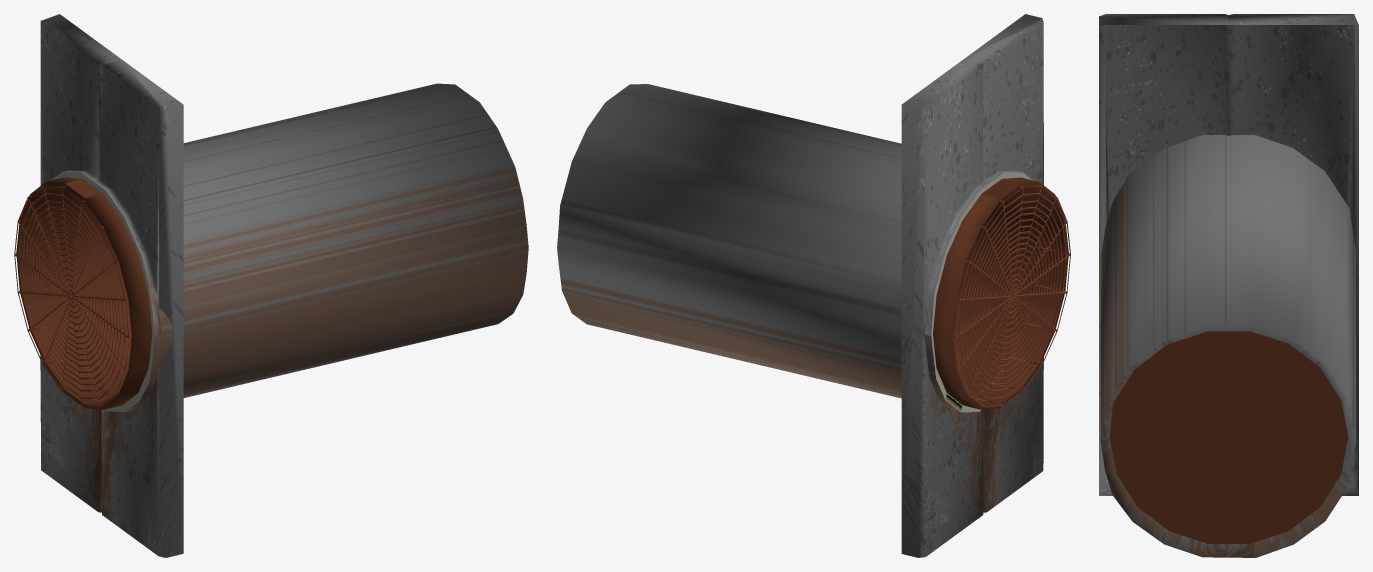
The model's file is Ventilator.fbx.
The picture shows the model from 3 angles, left to right: view 1: azimuth 30°, elevation 25°; view 2: azimuth 150°, elevation 25°; view 3: azimuth 270°, elevation 25°; orthographic projection. The views are drawn at different scales.
Parts seen in each view (by area): view 1: Ventilator; view 2: Ventilator; view 3: Ventilator.
Part boxes in pixels (box(x1,y1,x2,y2)): Ventilator: box(14, 14, 528, 557); Ventilator: box(557, 14, 1070, 557); Ventilator: box(1099, 14, 1358, 557).
Bounding box in the file's own units: 369 × 400 × 200.
Materials: 2 (2 with a texture image).
